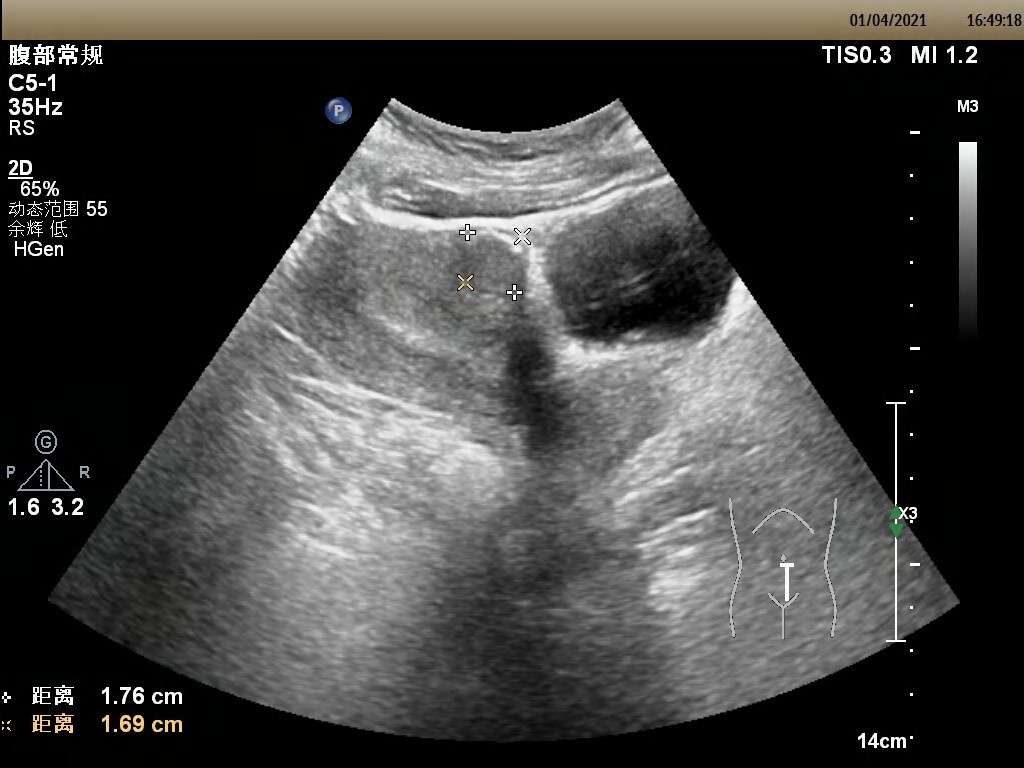肌瘤: (464, 239, 521, 291)
